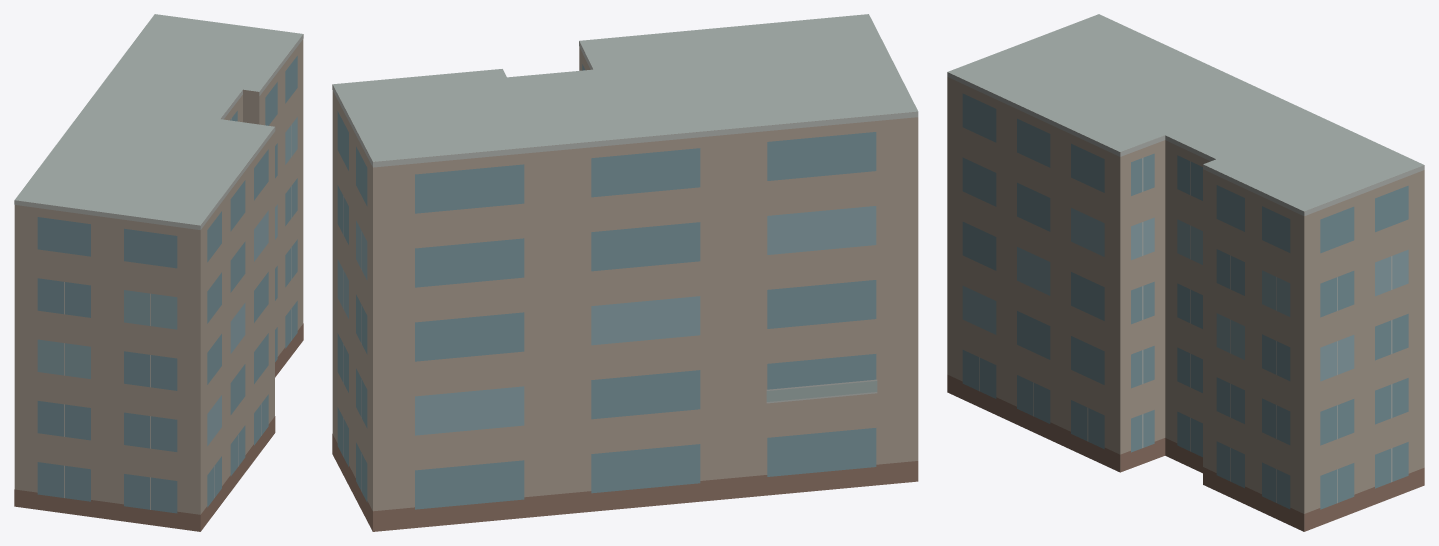
The model's file is survey-upis-32736779.glb.
3 renders of one model, left to right at view 1: azimuth 30°, elevation 25°; view 2: azimuth 150°, elevation 25°; view 3: azimuth 270°, elevation 25°, orthographic. The views are drawn at different scales.
Parts seen in each view (by area): view 1: survey-upis-32736779.tmp; view 2: survey-upis-32736779.tmp; view 3: survey-upis-32736779.tmp.
Part boxes in pixels (box(x1,y1,x2,y2)): survey-upis-32736779.tmp: box(14, 14, 303, 531); survey-upis-32736779.tmp: box(332, 14, 918, 531); survey-upis-32736779.tmp: box(947, 14, 1424, 531).
Size of the model in its own units: 21.5 by 16.25 by 21.95.
